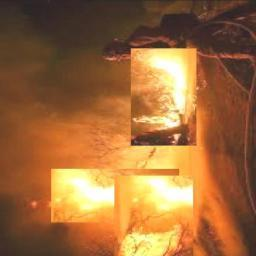Large fire: (52, 57, 195, 256)
